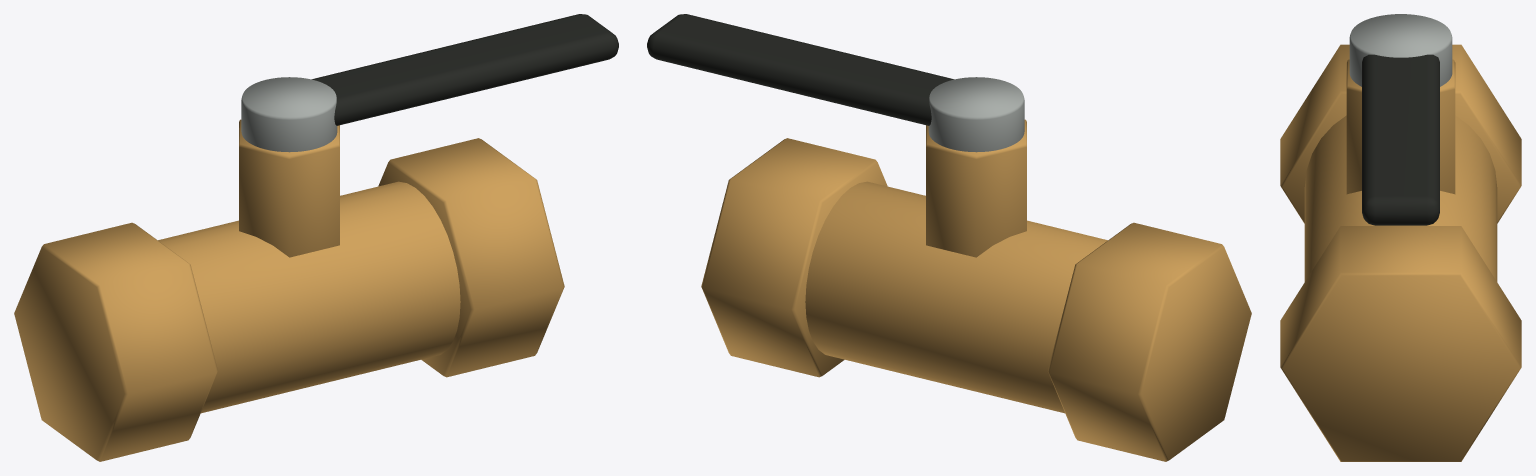
File: valve.glb
3 renders of one model, left to right at view 1: azimuth 30°, elevation 25°; view 2: azimuth 150°, elevation 25°; view 3: azimuth 270°, elevation 25°, orthographic. The views are drawn at different scales.
Visible parts, largest first — view 1: Brass valve body, Hex union, Hex union.001, Ball valve handle, Packing gland, Lever pivot; view 2: Brass valve body, Hex union, Hex union.001, Ball valve handle, Packing gland, Lever pivot; view 3: Hex union.001, Ball valve handle, Brass valve body, Hex union, Lever pivot, Packing gland.
Part boxes in pixels (x1,y1,x2,y2): Brass valve body: (158,181,460,413); Hex union: (14,222,217,461); Hex union.001: (378,138,564,377); Ball valve handle: (311,14,618,125); Packing gland: (239,119,339,257); Lever pivot: (241,77,337,152); Brass valve body: (805,181,1107,413); Hex union: (1048,222,1251,461); Hex union.001: (701,138,887,377); Ball valve handle: (647,14,954,125); Packing gland: (926,119,1026,257); Lever pivot: (928,77,1024,152); Hex union.001: (1280,226,1521,461); Ball valve handle: (1362,54,1439,225); Brass valve body: (1304,115,1497,281); Hex union: (1280,44,1521,223); Lever pivot: (1349,14,1452,86); Packing gland: (1346,59,1455,194).
Bounding box in the file's own units: 0.297 × 0.1543 × 0.108.
